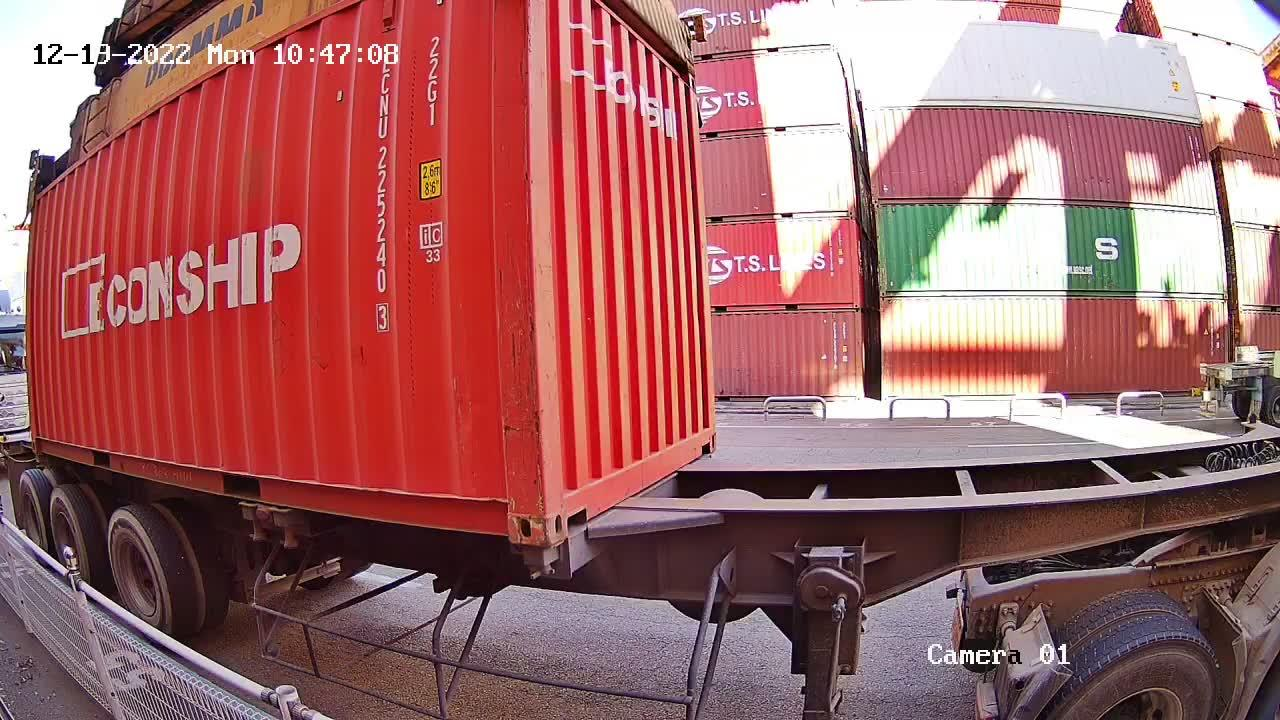Chassis: (566, 455, 712, 576)
Cone: (513, 545, 559, 583)
Hole_L: (544, 469, 594, 543), (698, 412, 719, 458)
Hole_R: (469, 479, 544, 547)
Tire: (109, 512, 169, 624), (51, 489, 92, 569), (18, 471, 46, 543)
